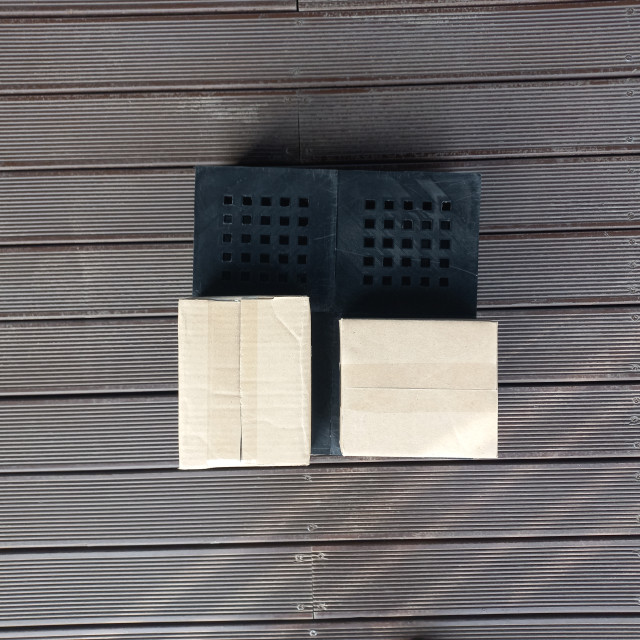box: (175, 293, 312, 470), (337, 316, 499, 460)
